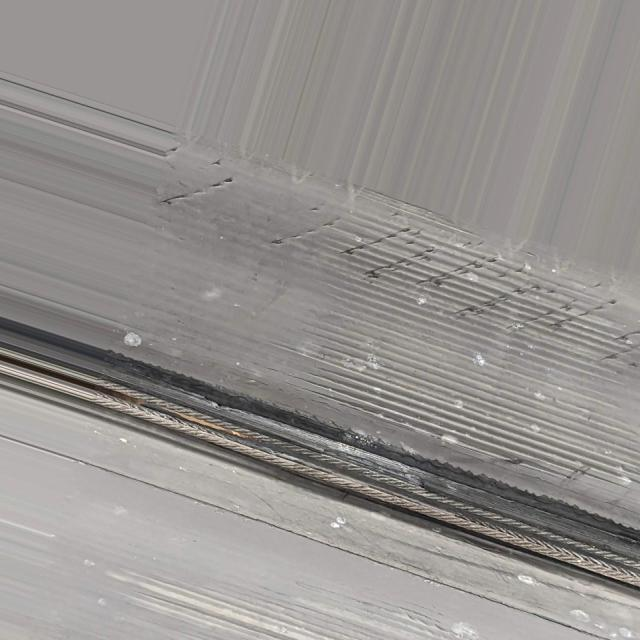Tear: (155, 148, 640, 377)
impact damage: (102, 360, 640, 600), (305, 320, 639, 500)
